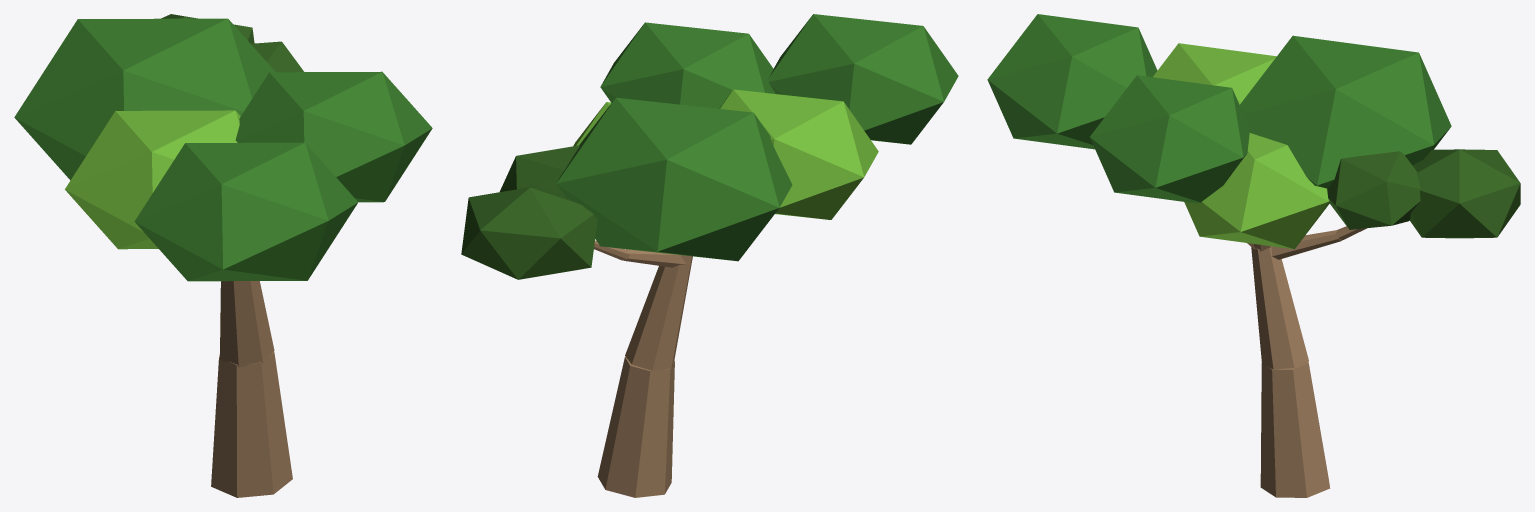
Rendered from forest-deciduous-wide.glb.
3 views of the same model, side by side, from view 1: azimuth 30°, elevation 25°; view 2: azimuth 150°, elevation 25°; view 3: azimuth 270°, elevation 25° (orthographic). The views are drawn at different scales.
Visible parts, largest first — view 1: Icosphere.004, Icosphere.006, Icosphere.005, Icosphere.003, Trunk0, Trunk1, Icosphere.001; view 2: Icosphere.006, Icosphere.004, Icosphere.003, Icosphere.005, Icosphere, Trunk0, Trunk1, Icosphere.001, Branch0a; view 3: Icosphere.006, Icosphere.005, Icosphere.004, Icosphere.002, Icosphere, Trunk0, Icosphere.001, Trunk1, Icosphere.003, Branch0a.
Part boxes in pixels (x1,y1,x2,y2): Icosphere.004: [134, 142, 358, 281]; Icosphere.006: [14, 18, 275, 180]; Icosphere.005: [235, 71, 432, 202]; Icosphere.003: [65, 110, 240, 249]; Trunk0: [211, 352, 292, 497]; Trunk1: [220, 281, 274, 367]; Icosphere.001: [251, 41, 303, 72]; Icosphere.006: [556, 97, 792, 261]; Icosphere.004: [768, 14, 958, 144]; Icosphere.003: [719, 89, 878, 219]; Icosphere.005: [600, 22, 774, 108]; Icosphere: [461, 186, 597, 279]; Trunk0: [597, 356, 674, 497]; Trunk1: [625, 255, 692, 370]; Icosphere.001: [499, 145, 579, 195]; Branch0a: [623, 249, 686, 267]; Icosphere.006: [1240, 35, 1451, 188]; Icosphere.005: [1090, 75, 1249, 203]; Icosphere.004: [987, 14, 1157, 149]; Icosphere.002: [1184, 133, 1329, 249]; Icosphere: [1410, 149, 1520, 238]; Trunk0: [1260, 361, 1330, 497]; Icosphere.001: [1327, 151, 1420, 229]; Trunk1: [1251, 247, 1308, 369]; Icosphere.003: [1153, 43, 1276, 104]; Branch0a: [1271, 230, 1341, 259].
Bounding box in the file's own units: 2.29 × 2.95 × 3.57.
